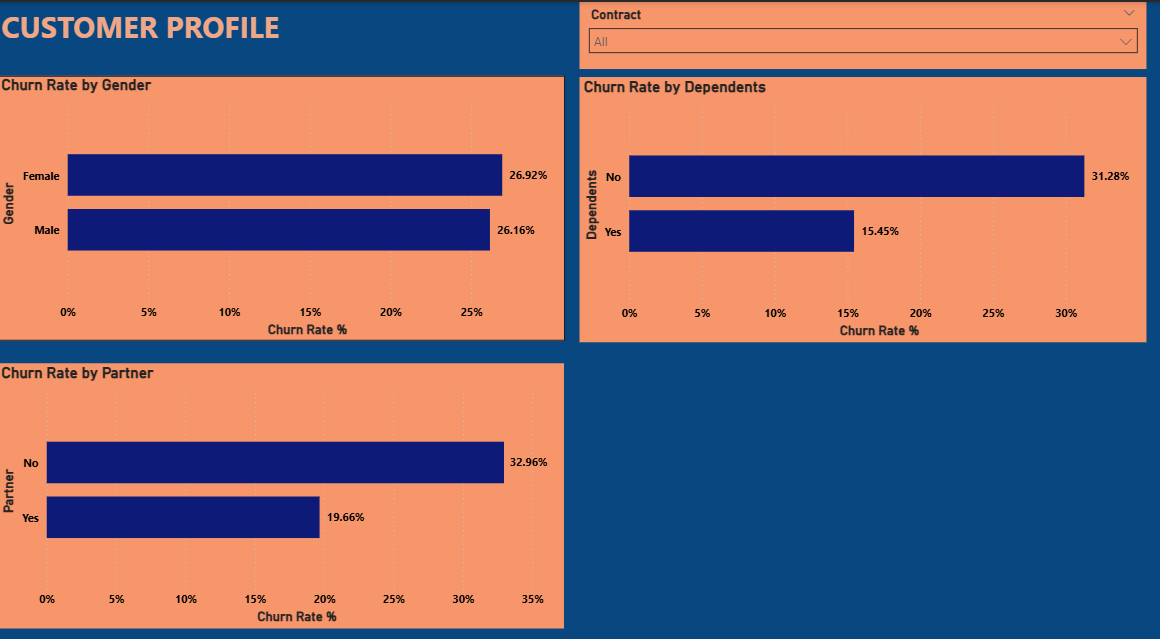

What the dashboard file says about the page in this screenshot:
{"tool":"powerbi","page":{"name":"Customer Profile","canvas":[1280,720],"ordinal":2},"visuals":[{"type":"clusteredBarChart","title":"Churn Rate by Gender","fields":{"Y":["churn.Churn Rate %"],"Category":["churn.Gender"]},"box":[0,80.3,622.5,291.5],"z":0},{"type":"clusteredBarChart","title":"Churn Rate by Dependents","fields":{"Y":["churn.Churn Rate %"],"Category":["churn.Dependents"]},"box":[639.4,81.7,622.5,291.5],"z":1000},{"type":"clusteredBarChart","title":"Churn Rate by Partner","fields":{"Y":["churn.Churn Rate %"],"Category":["churn.Partner"]},"box":[0,397.2,622.5,291.5],"z":2000},{"type":"slicer","fields":{"Values":["churn.Contract"]},"box":[639.4,0,622.5,73.2],"z":3000},{"type":"textbox","box":[0,0,328.2,54.9],"z":4000}]}

Visuals, with their boxes in screenshot pixels (x1, y1, x2, y2), scaled from the page's 1280x720 canvas onto the 1160x639 screenshot:
"Churn Rate by Gender" clusteredBarChart: region(0, 71, 564, 330)
"Churn Rate by Dependents" clusteredBarChart: region(579, 73, 1144, 331)
"Churn Rate by Partner" clusteredBarChart: region(0, 353, 564, 611)
slicer - churn.Contract: region(579, 0, 1144, 65)
textbox: region(0, 0, 297, 49)
